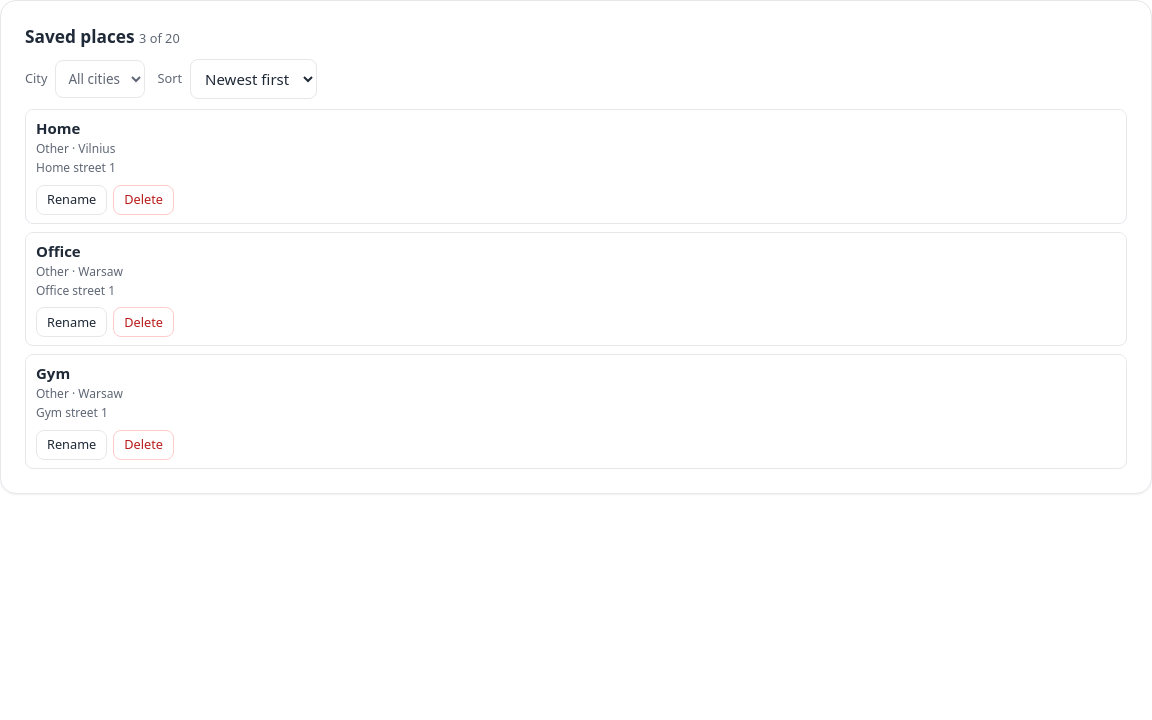
Test case: saved places list › deletes a place only after the confirmation
Expected: the text "Office" is shown, [36,241,81,262]
Click the 2nd button "Delete": {"x": 144, "y": 322} [113,307,174,337]
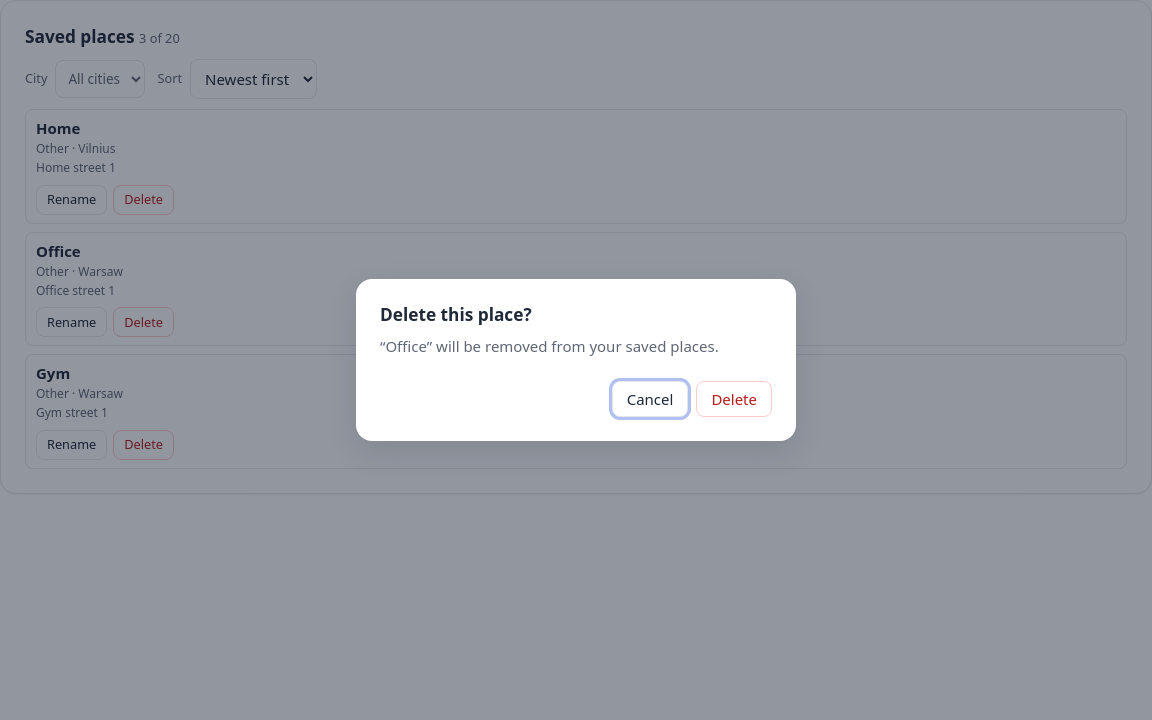
Result: the text "“Office” will be removed from your saved places." is shown at [380,336,772,357]
Click the button "Cancel": {"x": 650, "y": 399} [612,381,688,417]
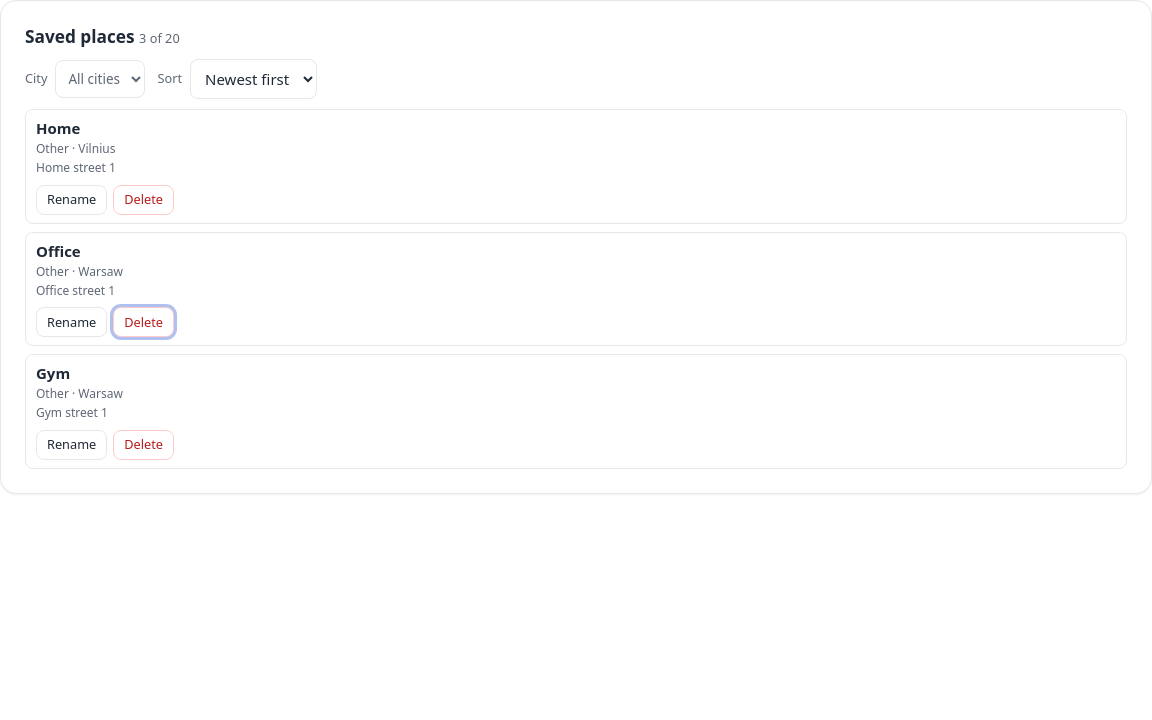
Click the 2nd button "Delete": {"x": 144, "y": 322} [113,307,174,337]
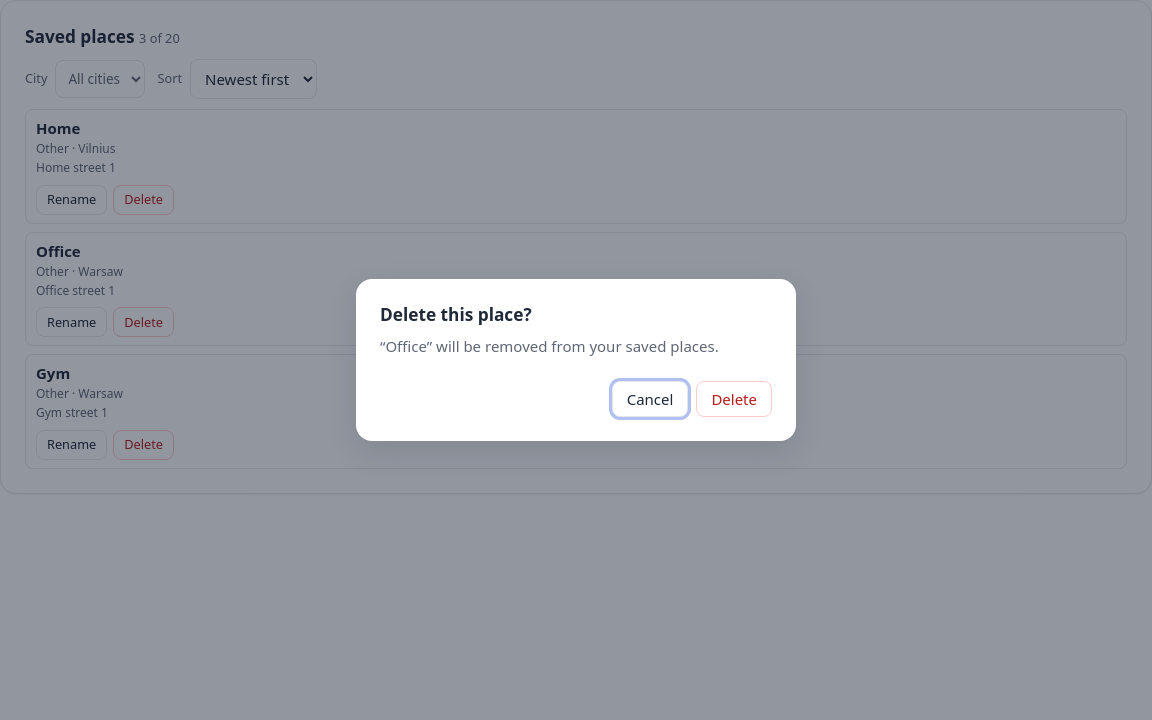
Click the button "Delete": {"x": 734, "y": 399} [696,381,772,417]
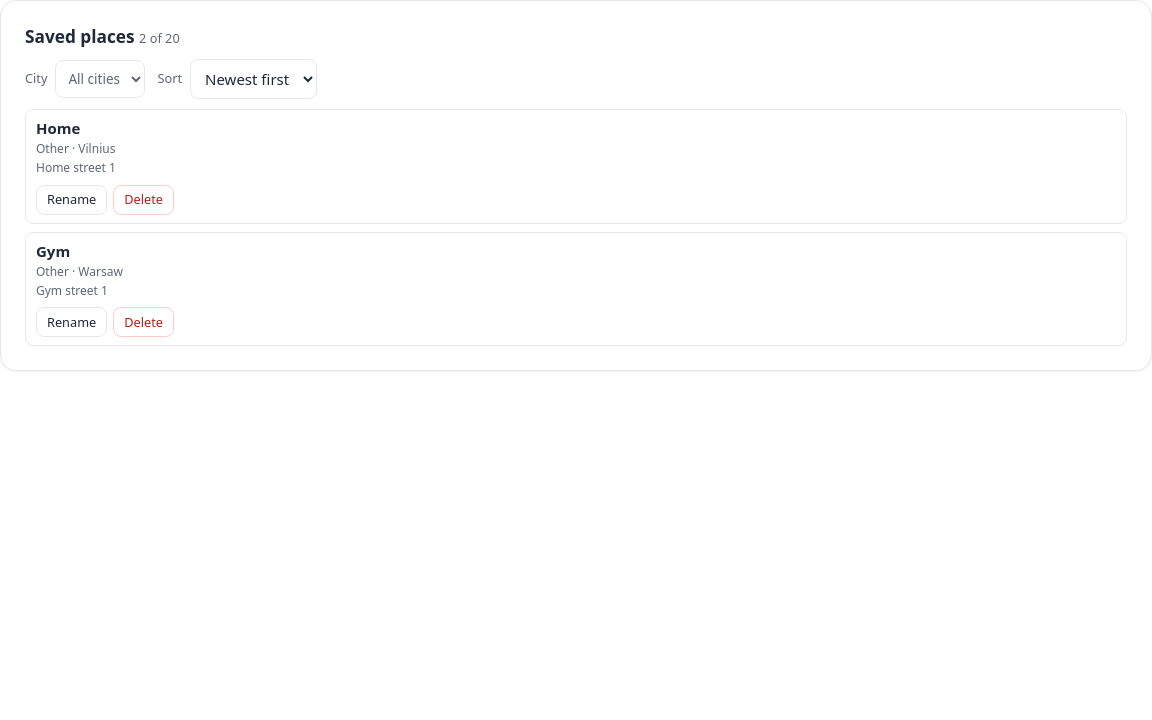
Result: the button "Office" is gone
